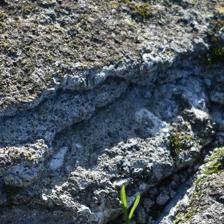Crack: (54, 13, 162, 124), (31, 16, 123, 106), (172, 35, 224, 124)
